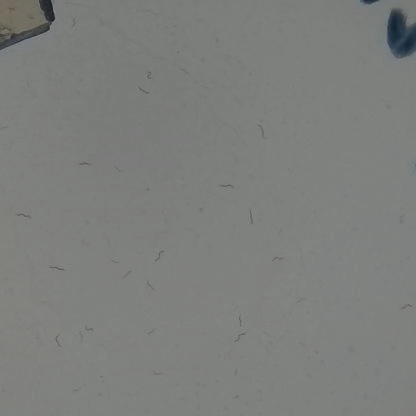worm: (16, 208, 37, 231), (395, 211, 413, 235), (232, 330, 253, 349), (253, 119, 270, 141), (133, 86, 155, 100), (232, 312, 251, 328), (242, 207, 257, 227), (48, 262, 69, 276), (51, 332, 67, 349), (69, 12, 81, 34), (139, 69, 160, 81), (398, 302, 416, 314), (148, 369, 169, 379), (120, 267, 134, 282), (144, 278, 158, 293), (179, 65, 193, 79), (82, 321, 95, 335), (217, 181, 235, 191), (75, 158, 91, 169), (69, 384, 83, 396), (111, 161, 122, 176), (103, 255, 121, 264), (271, 251, 283, 263), (76, 331, 87, 344), (143, 326, 157, 336), (293, 296, 309, 304), (0, 126, 13, 135)
